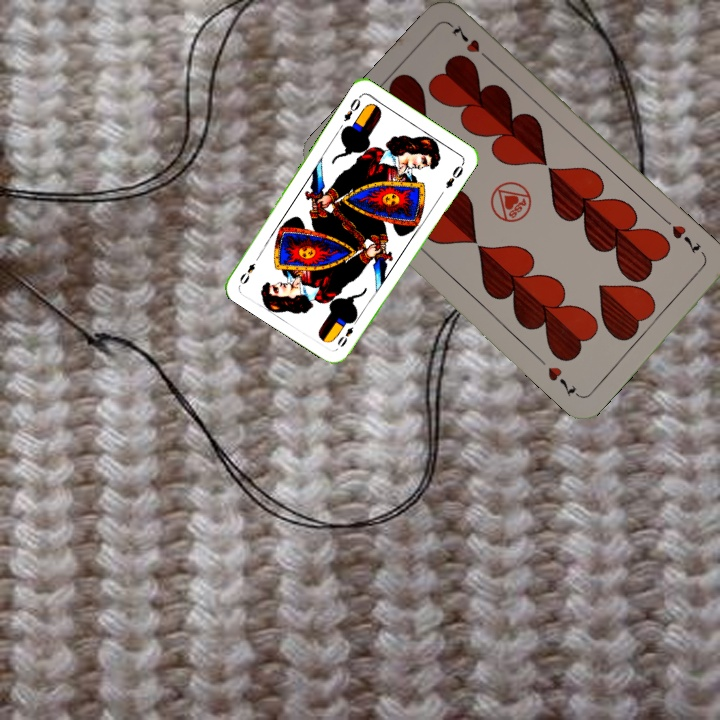EO: (333, 314, 361, 350), (340, 91, 364, 124)
H7: (667, 221, 703, 257)
